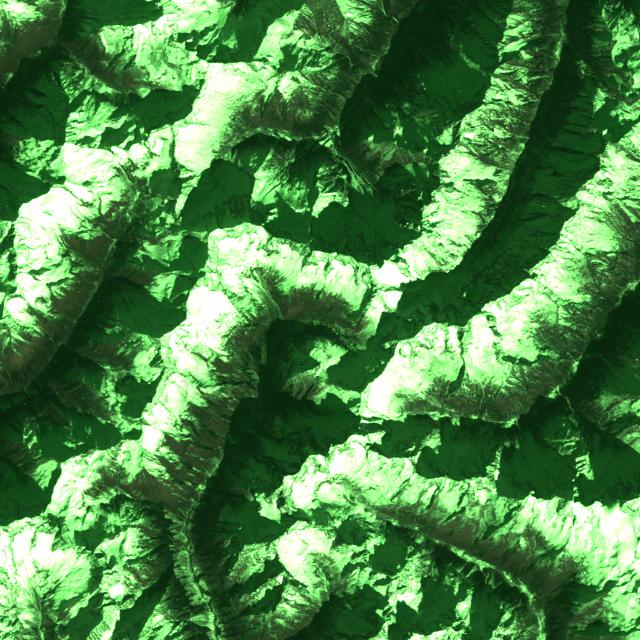landslides: (409, 32, 456, 109), (238, 257, 286, 328), (0, 84, 53, 139), (517, 419, 546, 484), (525, 433, 559, 486), (244, 425, 292, 462), (195, 0, 244, 35), (600, 206, 640, 246), (340, 162, 358, 242), (589, 344, 619, 389), (0, 160, 46, 189), (274, 331, 306, 372), (418, 418, 449, 460), (260, 438, 296, 474), (42, 607, 100, 629), (435, 416, 458, 469), (166, 612, 209, 640), (237, 443, 274, 475), (381, 207, 412, 244), (350, 163, 364, 244), (486, 115, 530, 140), (204, 6, 231, 46), (229, 159, 247, 218), (550, 134, 604, 153), (280, 141, 313, 172), (155, 556, 189, 585), (467, 564, 487, 613), (230, 449, 263, 478), (416, 242, 444, 276), (326, 204, 353, 239), (542, 150, 596, 167), (210, 494, 242, 522), (467, 153, 514, 172), (69, 74, 95, 108), (59, 252, 102, 272), (454, 566, 477, 603), (497, 599, 522, 631), (500, 221, 547, 238), (191, 525, 244, 540), (372, 191, 386, 246), (368, 519, 390, 552), (317, 82, 359, 99), (480, 135, 515, 155), (247, 235, 261, 285), (467, 425, 488, 458), (547, 128, 600, 141), (478, 573, 494, 616), (508, 236, 548, 253), (353, 514, 376, 543), (363, 192, 375, 247), (487, 109, 527, 125), (544, 459, 569, 484), (279, 603, 313, 621), (548, 152, 584, 169), (208, 554, 237, 575), (494, 593, 515, 622), (531, 199, 571, 214), (480, 427, 496, 464), (544, 405, 563, 436), (542, 152, 571, 172), (209, 17, 226, 50), (12, 593, 40, 613), (227, 162, 236, 222), (532, 168, 580, 179), (609, 360, 640, 377), (112, 174, 137, 195), (321, 174, 347, 194), (133, 101, 148, 135), (77, 227, 113, 241), (528, 203, 559, 219), (494, 94, 543, 104), (144, 105, 165, 128), (523, 446, 536, 483), (465, 423, 481, 453), (481, 122, 511, 138), (0, 348, 12, 387), (187, 6, 220, 20), (618, 142, 640, 163), (360, 345, 393, 359), (498, 42, 524, 59), (1, 116, 24, 135), (207, 543, 243, 555), (268, 434, 298, 448), (328, 552, 344, 578), (0, 608, 32, 621), (494, 66, 546, 74), (323, 56, 348, 72), (222, 7, 233, 43), (618, 315, 640, 333), (515, 441, 524, 483), (16, 573, 32, 596), (138, 106, 152, 132), (221, 389, 241, 407), (450, 420, 462, 450), (237, 25, 247, 59), (615, 371, 640, 384), (164, 100, 181, 119), (504, 627, 542, 635), (406, 437, 421, 457), (541, 411, 556, 431), (245, 465, 259, 486), (159, 102, 173, 123), (609, 200, 621, 224), (518, 216, 549, 225), (254, 3, 272, 18), (172, 98, 192, 111), (359, 154, 375, 170), (535, 416, 550, 433), (257, 423, 282, 433), (119, 160, 130, 182), (572, 329, 588, 344), (93, 81, 107, 98), (212, 588, 233, 599), (180, 61, 190, 84), (0, 191, 9, 216), (32, 563, 40, 591), (112, 33, 126, 48), (17, 336, 36, 347), (16, 576, 27, 595), (187, 69, 198, 88), (266, 0, 282, 13), (223, 506, 236, 522), (500, 150, 516, 163), (100, 28, 108, 53), (470, 143, 481, 161), (199, 11, 215, 23), (338, 22, 344, 54), (233, 577, 250, 588), (144, 469, 152, 492), (532, 531, 540, 552), (342, 17, 348, 44), (201, 14, 215, 25), (531, 34, 560, 39), (9, 17, 15, 41), (605, 376, 614, 392), (490, 237, 496, 261), (50, 337, 58, 354), (229, 474, 244, 483), (480, 207, 502, 213), (450, 27, 458, 43), (119, 487, 130, 498), (228, 464, 239, 475), (314, 20, 319, 44), (96, 499, 102, 519), (82, 214, 90, 228), (179, 96, 195, 103), (530, 416, 535, 438), (138, 482, 144, 500), (231, 14, 237, 32), (619, 182, 640, 187), (480, 385, 484, 411), (23, 625, 36, 633), (182, 91, 199, 97)
